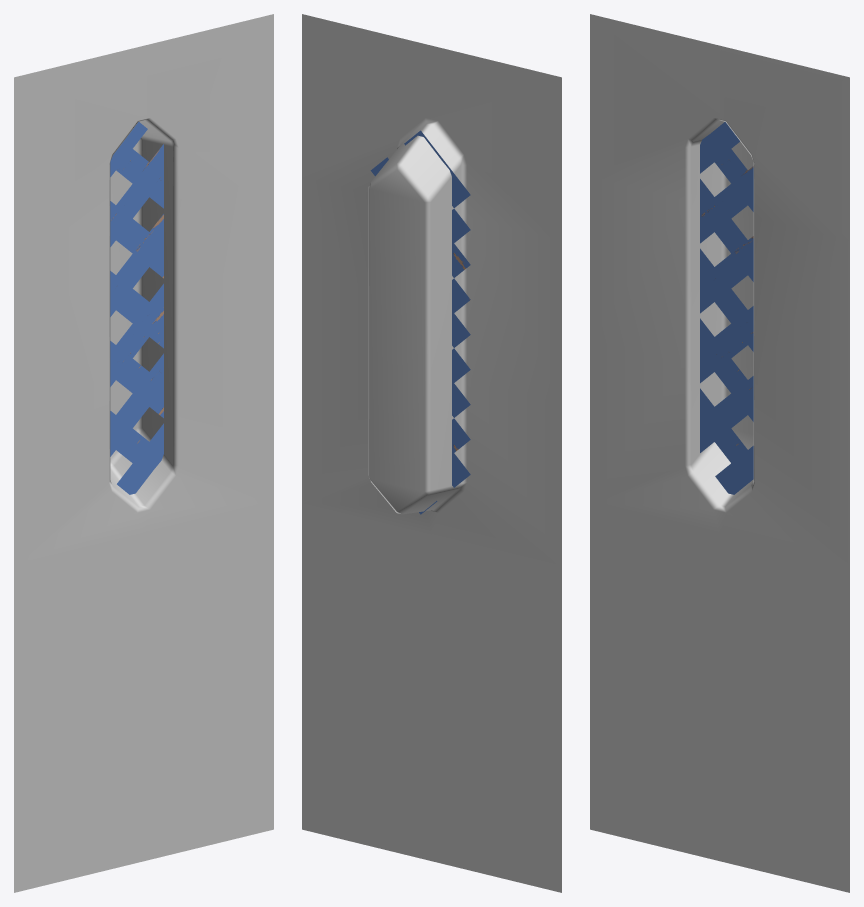
The model's file is WallLongWindow.fbx.
3 renders of one model, left to right at view 1: azimuth 30°, elevation 25°; view 2: azimuth 150°, elevation 25°; view 3: azimuth 330°, elevation 25°, orthographic.
Parts seen in each view (by area): view 1: WallLongWindow; view 2: WallLongWindow; view 3: WallLongWindow.
Boxes of the visible parts, bbox=[...] form: WallLongWindow: bbox=[14, 14, 273, 892]; WallLongWindow: bbox=[302, 14, 561, 892]; WallLongWindow: bbox=[590, 14, 849, 892].
Size of the model in its own units: 100 by 300 by 23.05.
2 materials, 1 textured.
